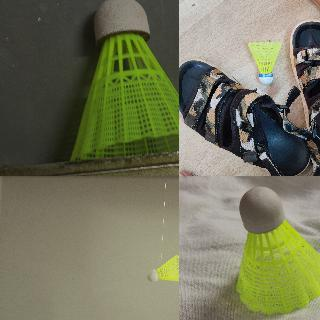shuttlecock: (69, 0, 178, 161), (236, 186, 319, 314), (245, 41, 283, 84), (146, 254, 178, 283)
